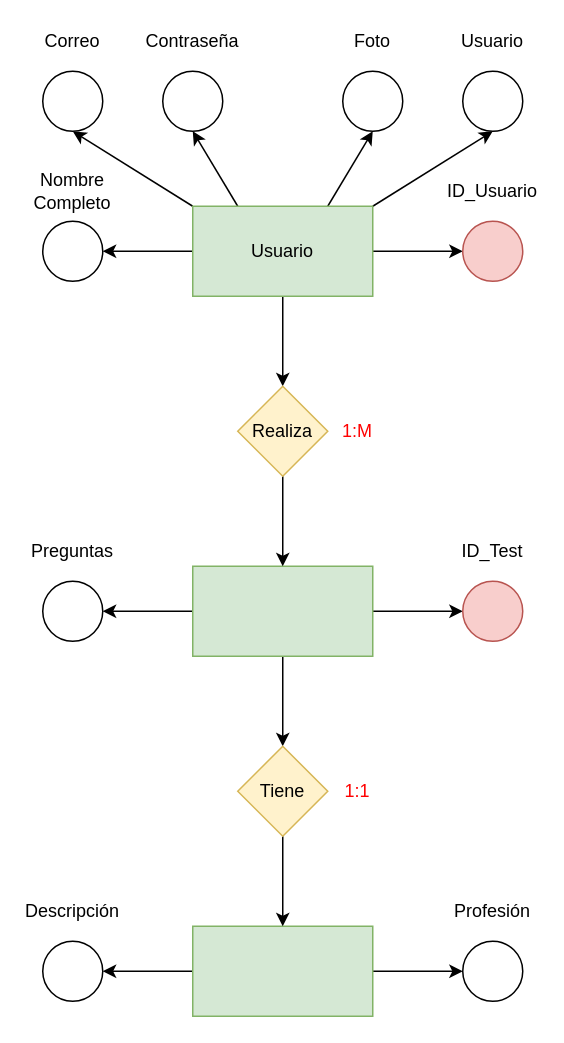
The diagram is 564 pixels wide and 1043 high, and some of its shapes have lost their labels. The shapes that lost their labels are listed below. From the top down, each one's centre as x and y in pixels, then its label:
At point (282, 610): "Test".
At point (282, 970): "Resultado".
